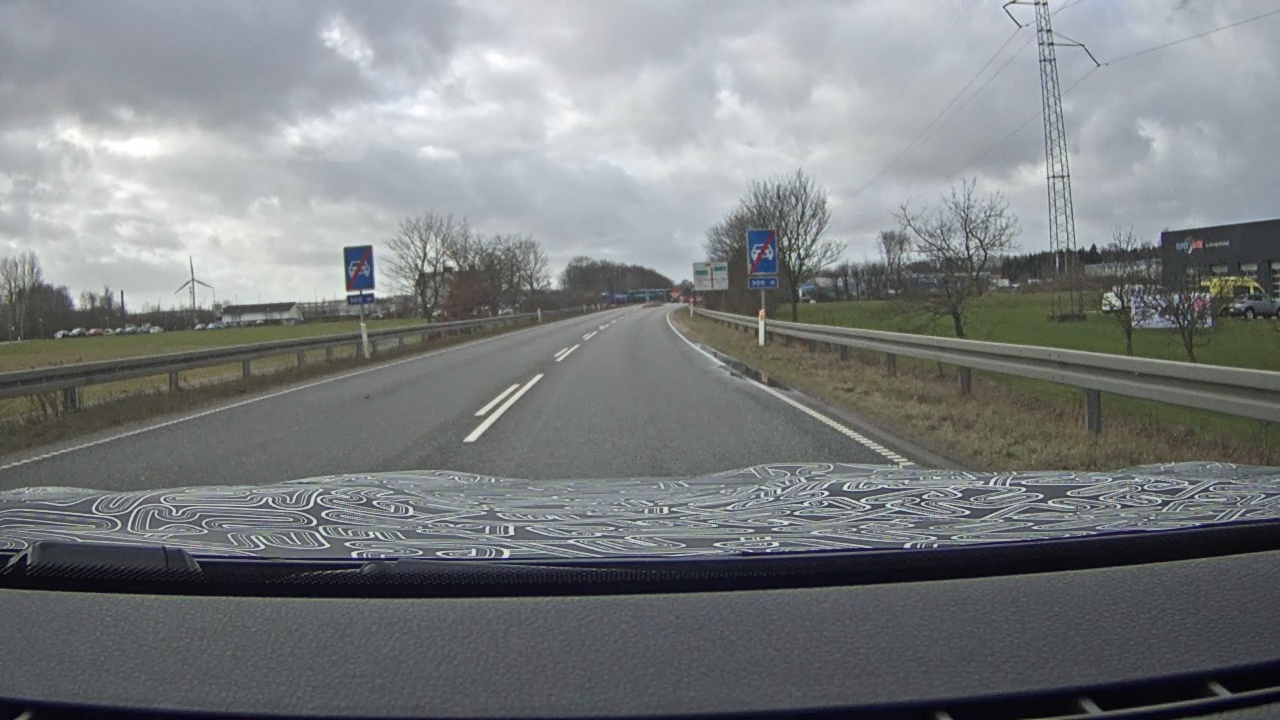Expressway_End: (342, 244, 376, 292), (745, 228, 778, 275)
